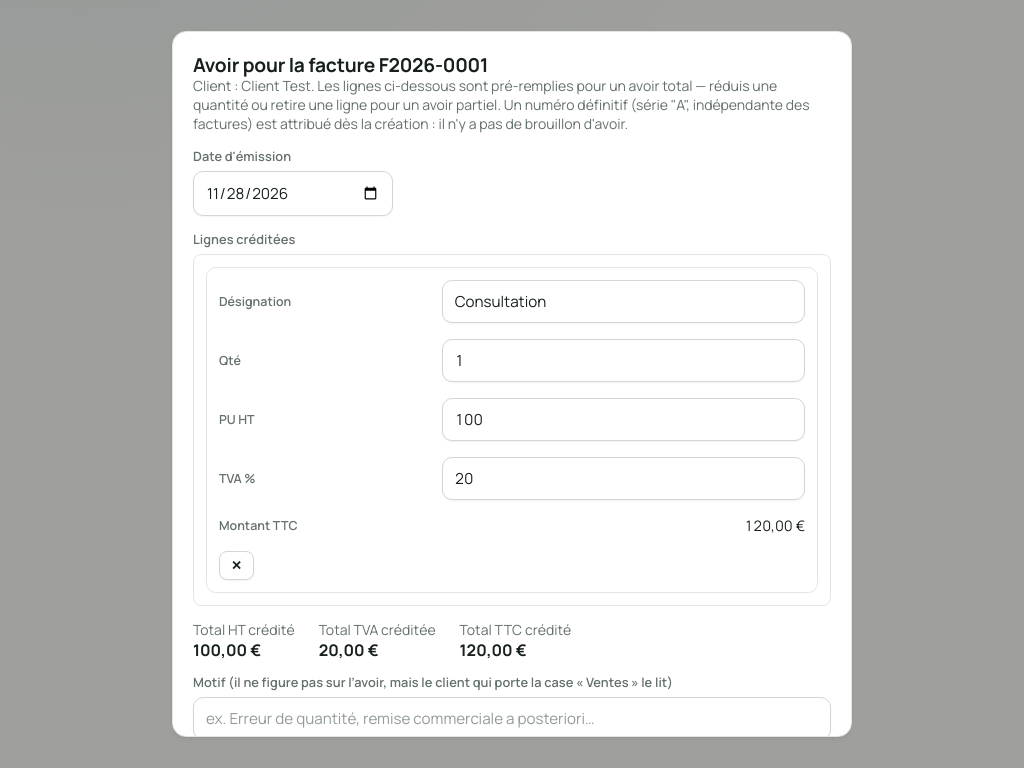
Test: FactureAvoirModal — ce que la base refuserait se dit avant le clic › un avoir daté avant sa facture est refusé
expect the field showing "Consultation" is shown: met, box left=442, top=280, right=805, bottom=323
Type "2026-08-31" into the date field with id "avoir-date" at [293, 193], box left=193, top=171, right=393, bottom=216
(page scrolled)
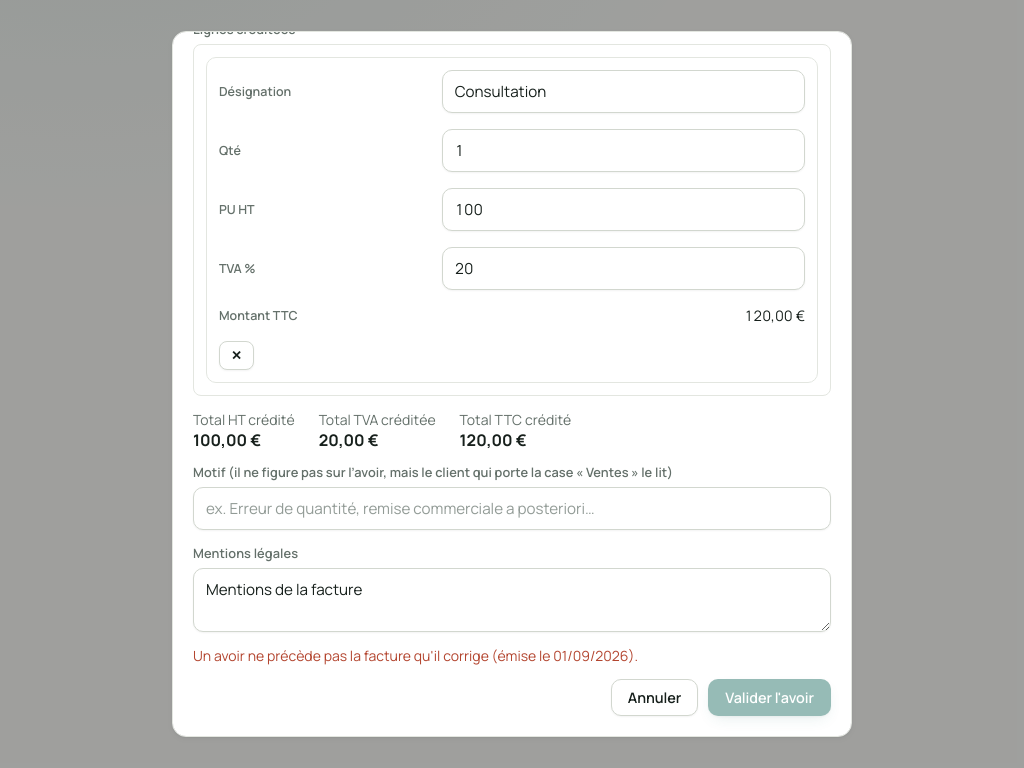
expect the text "Un avoir ne précède pas la facture qu'il corrige (émise le 01/09/2026)." is shown: met, box left=193, top=646, right=638, bottom=665
expect the button "Valider l'avoir" is disabled: met, box left=708, top=679, right=831, bottom=716
